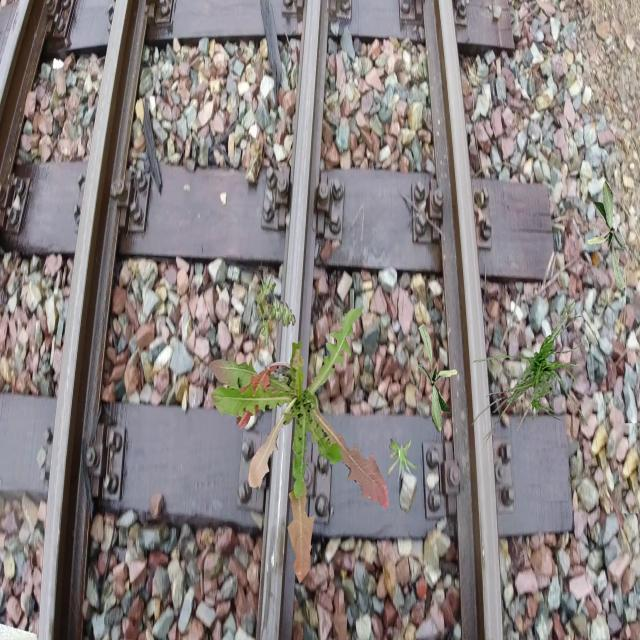Plant: (209, 307, 389, 585), (471, 293, 590, 457), (587, 181, 627, 291), (418, 323, 458, 433), (254, 276, 296, 348), (387, 438, 420, 484)
